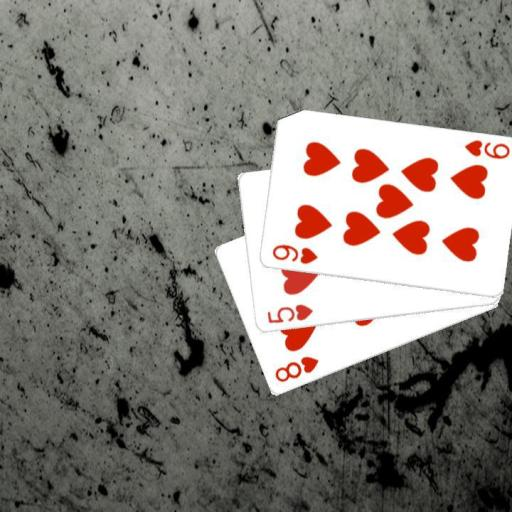5H: (263, 302, 314, 326)
8H: (271, 353, 321, 384)
9H: (461, 137, 511, 162), (268, 242, 319, 266)
